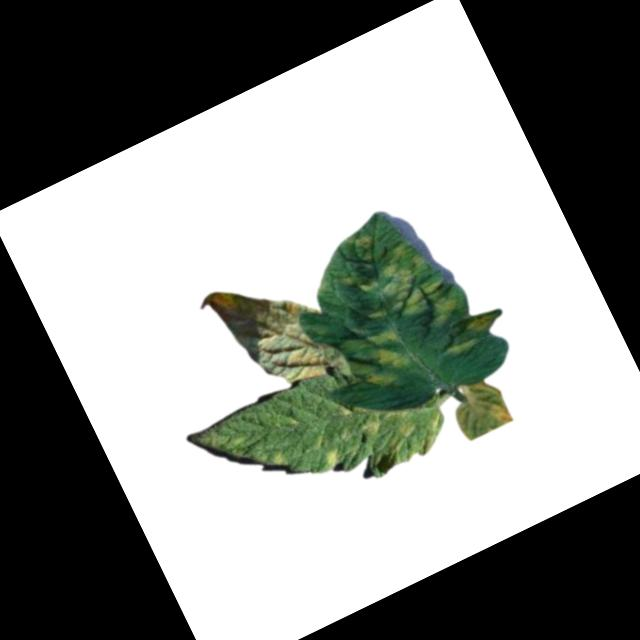Leaf_Mold: (205, 252, 344, 404), (341, 233, 463, 353), (355, 386, 451, 476), (337, 314, 418, 395), (445, 374, 516, 443), (440, 305, 507, 360), (263, 438, 293, 473), (317, 442, 348, 472), (349, 228, 373, 250)
